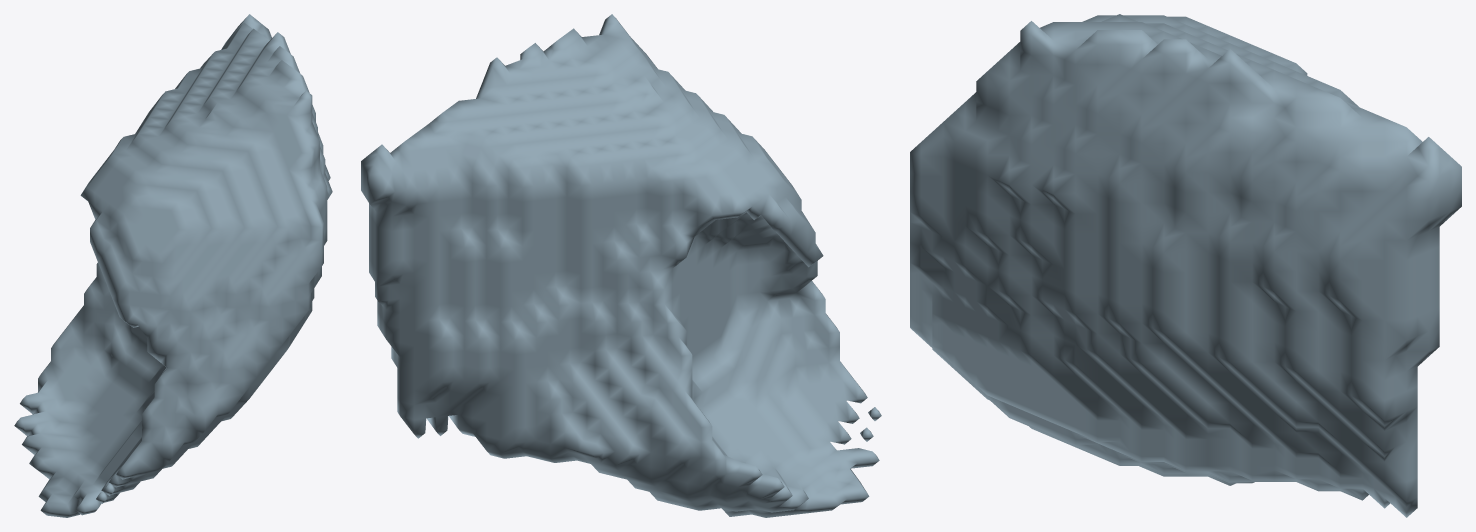
File: vpl-source-left.glb
The picture shows the model from 3 angles, left to right: view 1: azimuth 30°, elevation 25°; view 2: azimuth 150°, elevation 25°; view 3: azimuth 270°, elevation 25°; orthographic projection. The views are drawn at different scales.
Parts seen in each view (by area): view 1: Native_10424; view 2: Native_10424; view 3: Native_10424.
Part boxes in pixels (bbox=[...]): Native_10424: bbox=[14, 14, 332, 517]; Native_10424: bbox=[361, 14, 881, 517]; Native_10424: bbox=[910, 14, 1461, 517].
Bounding box in the file's own units: 0.0135 × 0.014 × 0.0125.
